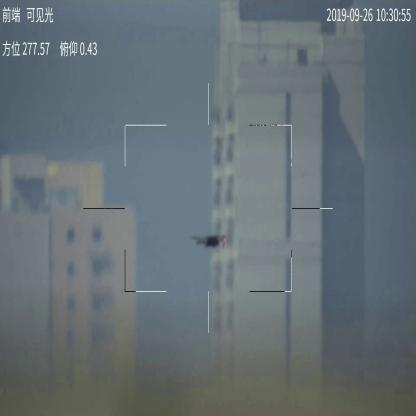uav: (190, 233, 231, 250)
